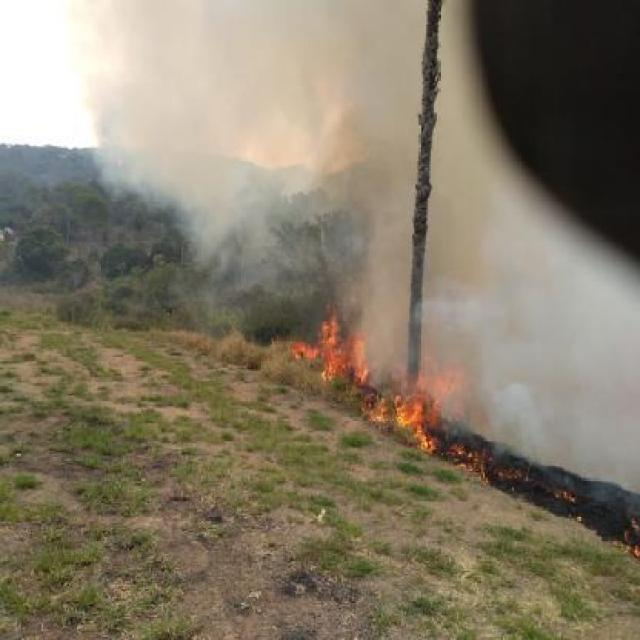Fire: (376, 350, 474, 455), (288, 314, 370, 386), (618, 517, 638, 560)
